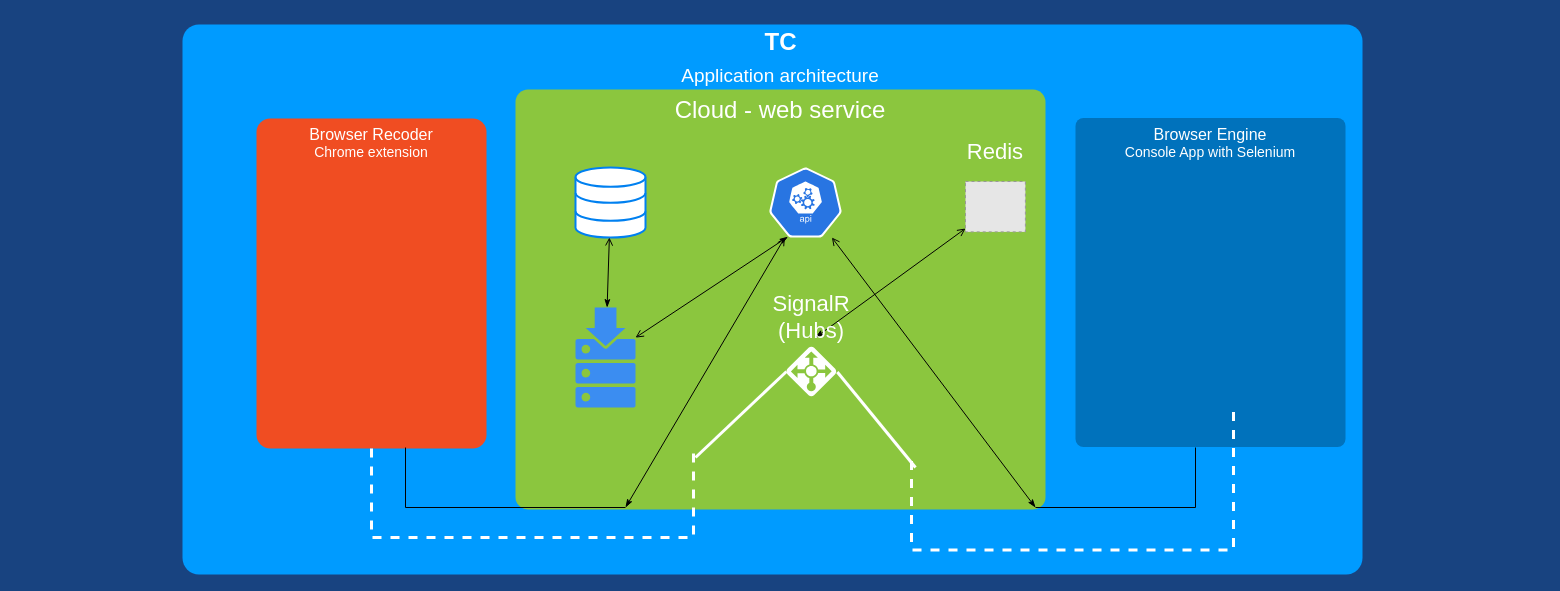
This 1560x591 diagram has some shape labels left out. Grey dashed boxes stand in for pictures. Each missing label, with the centre of its shape:
"Database" belongs at pixel 610 202.
"Repository" belongs at pixel 605 357.
